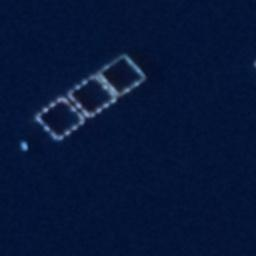square_solid: (32, 94, 90, 145), (94, 51, 151, 100), (67, 71, 122, 120)
